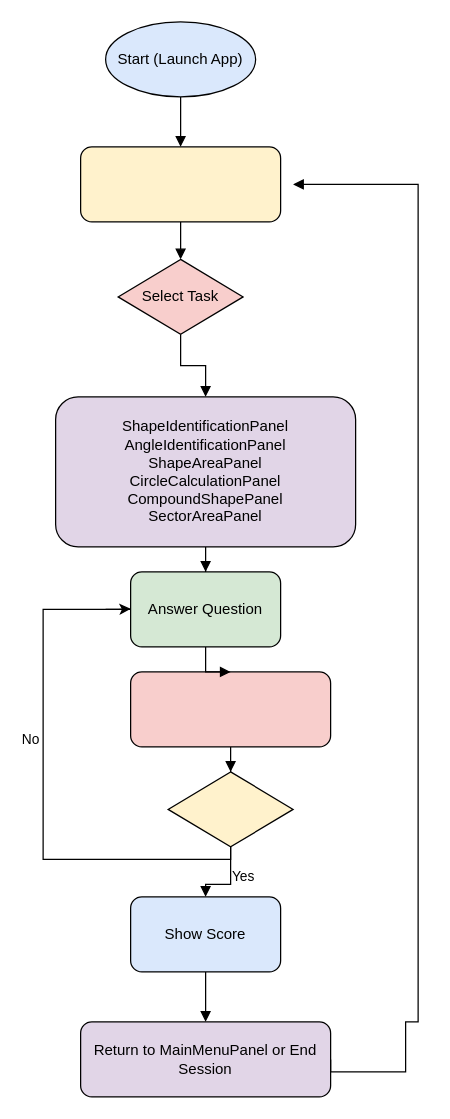
Image size: 450x1119. Some labels were removed from this diagram. The centre of each missing label's shape, as x and y in pixels:
"Feedback & Progress Update" belongs at point (230, 709).
"MainMenuPanel" belongs at point (180, 184).
"Task Complete?" belongs at point (230, 809).
